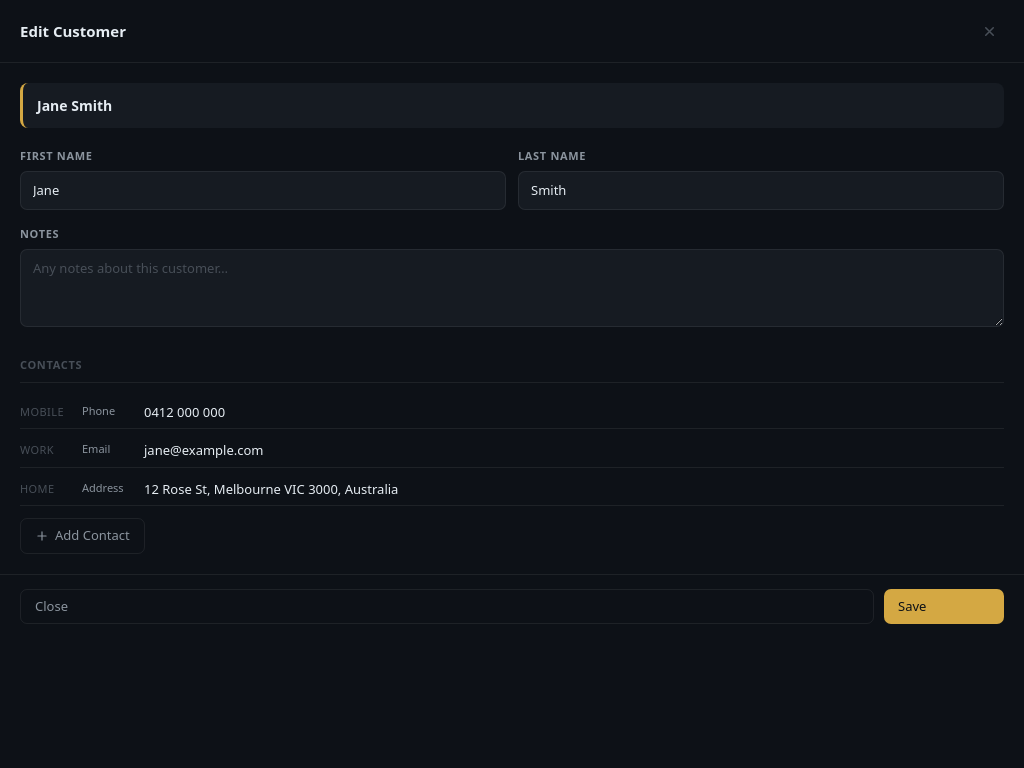
Test case: CustomerDetail › associates each form input with a label
expect the text "Jane Smith" is shown: met, box [37,96,112,115]
Click the button "Add Contact": coordinates (82, 536) [20,518,145,554]
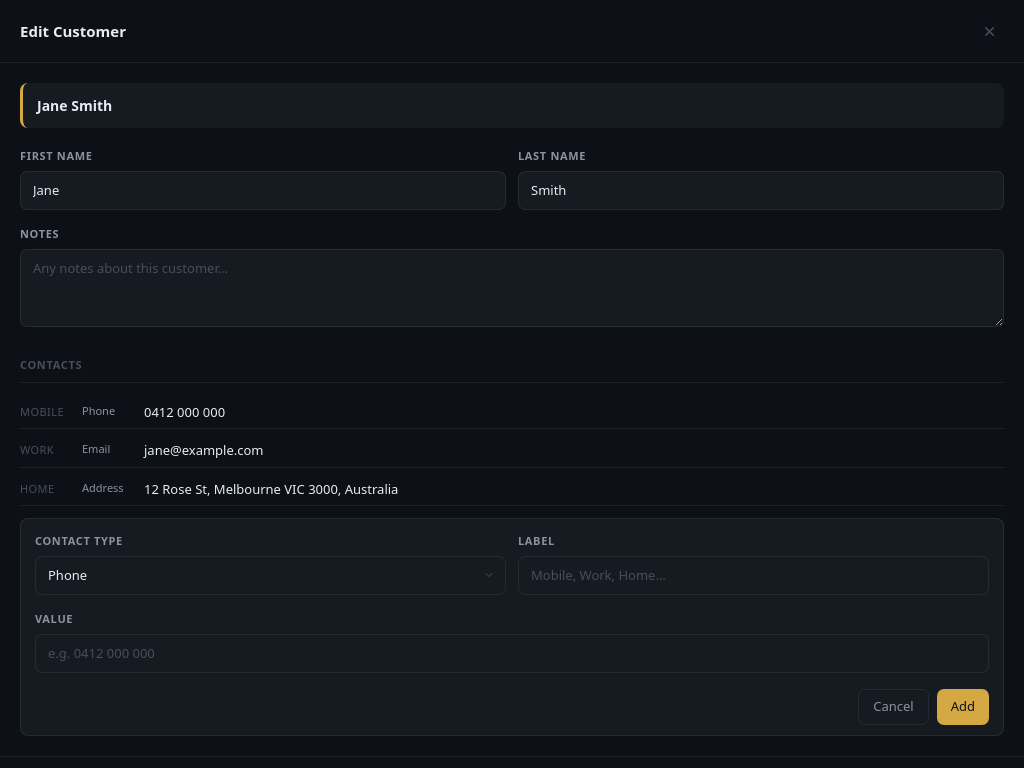
expect the dropdown labelled "Contact Type" is shown: met, box [35,556,506,595]
expect the field labelled "Value" is shown: met, box [35,634,989,673]
